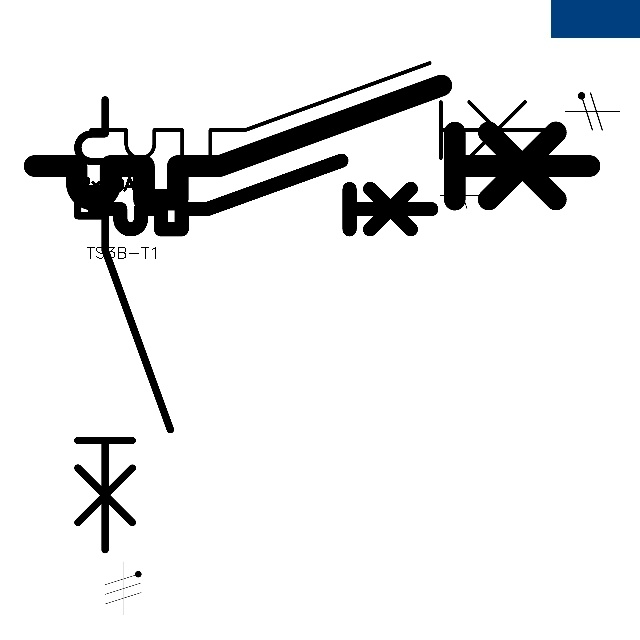interruptor_termomagnetico: (20, 71, 604, 214), (79, 51, 565, 170), (66, 88, 182, 561), (86, 152, 440, 238)
